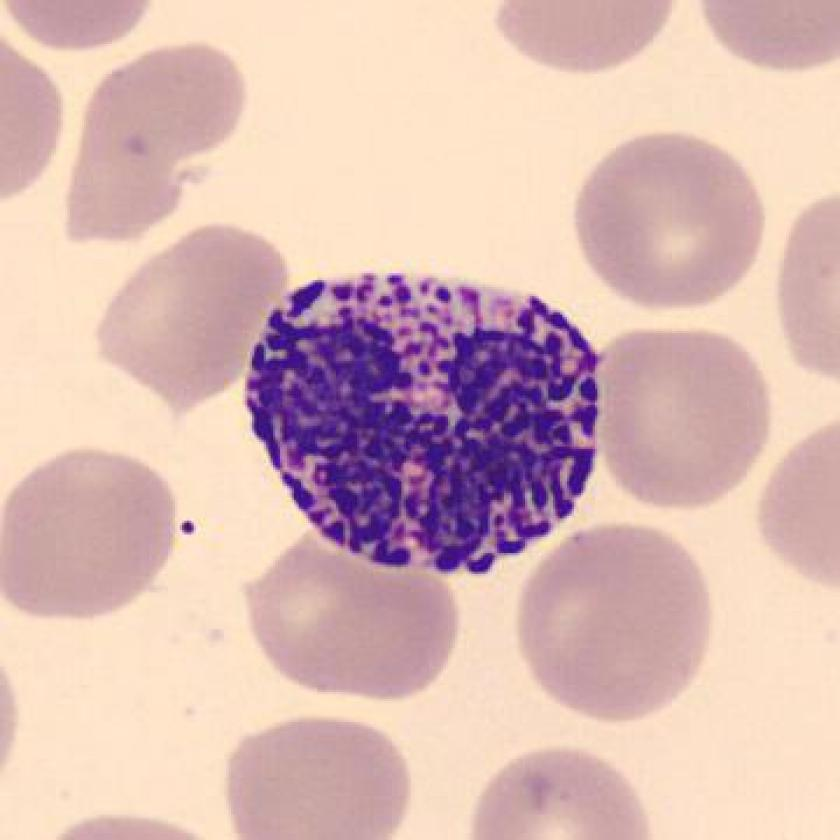basophil: (251, 246, 615, 577)
